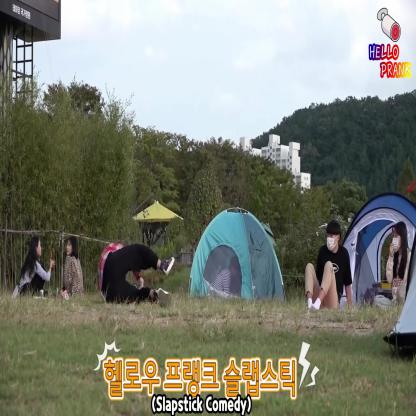Fall_Down: (95, 240, 176, 307)
